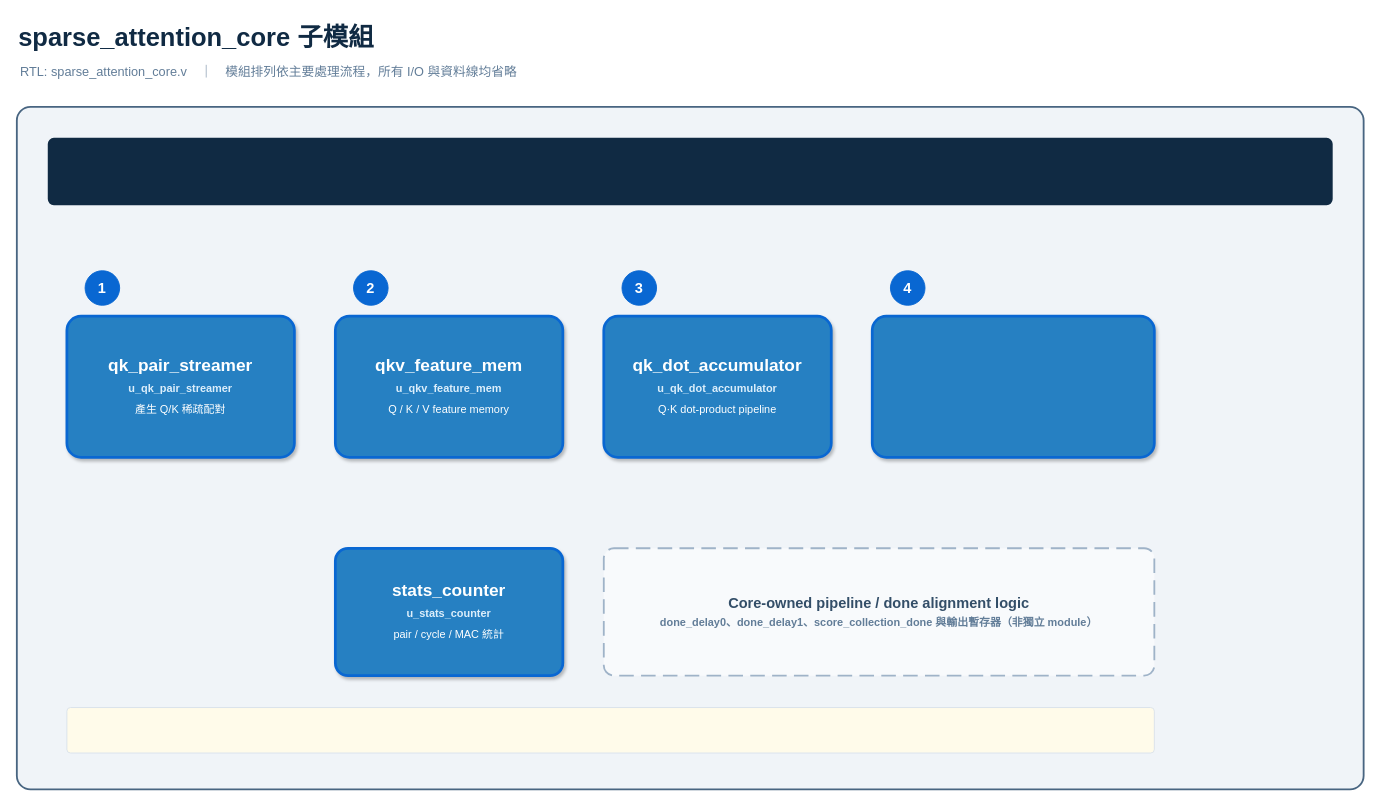
This 1380x805 diagram has some shape labels left out. Each missing label, with the centre of its shape:
qk_pair_streamer 仍包含子模組，詳見分頁「03 qk_pair_streamer」。除它之外，其餘 4 個子模組皆為 leaf module。: the point at 610,730
sparse_attention_core: the point at 689,171
sparse_softmax_sv u_sparse_softmax_sv score 收集、softmax、SV context: the point at 1014,388
